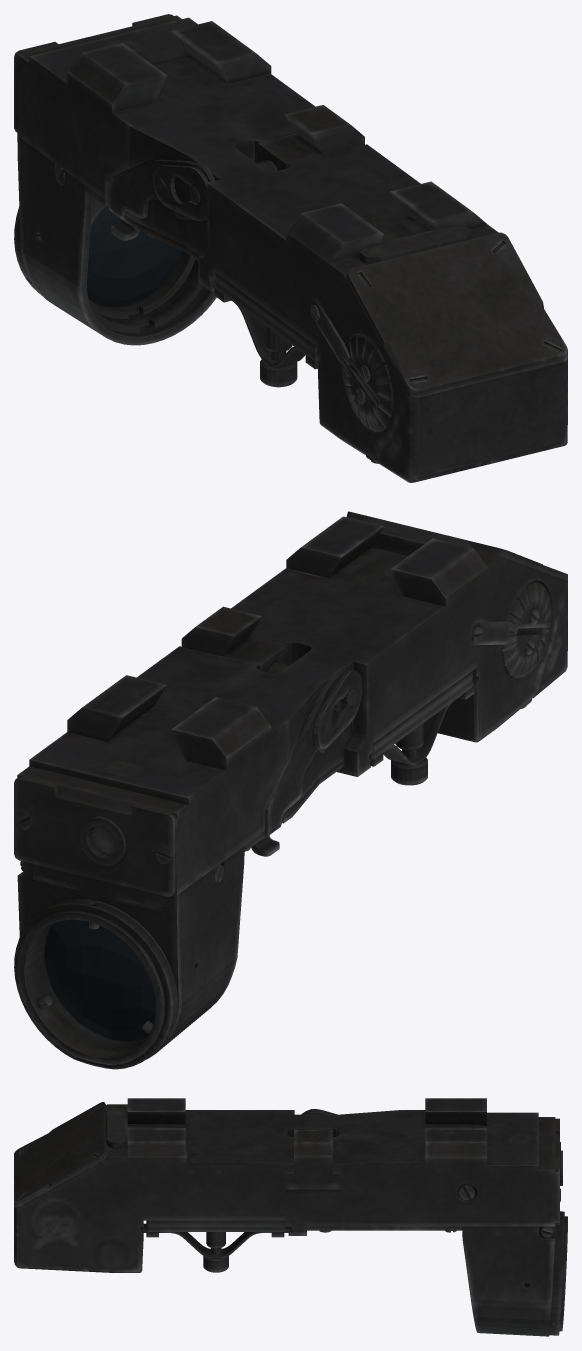
3 views of the same model, one above another, from view 1: azimuth 30°, elevation 25°; view 2: azimuth 150°, elevation 25°; view 3: azimuth 270°, elevation 25° (orthographic). The views are drawn at different scales.
Parts seen in each view (by area): view 1: TW_62ff9920fe938a24c90c10d2_PZ_Import; view 2: TW_62ff9920fe938a24c90c10d2_PZ_Import; view 3: TW_62ff9920fe938a24c90c10d2_PZ_Import.
Part boxes in pixels (<box>): TW_62ff9920fe938a24c90c10d2_PZ_Import: <box>14,14,567,482</box>; TW_62ff9920fe938a24c90c10d2_PZ_Import: <box>14,511,567,1069</box>; TW_62ff9920fe938a24c90c10d2_PZ_Import: <box>14,1098,567,1336</box>.
Size of the model in its own units: 0.0194 by 0.0811 by 0.034.
1 material, 1 textured.
